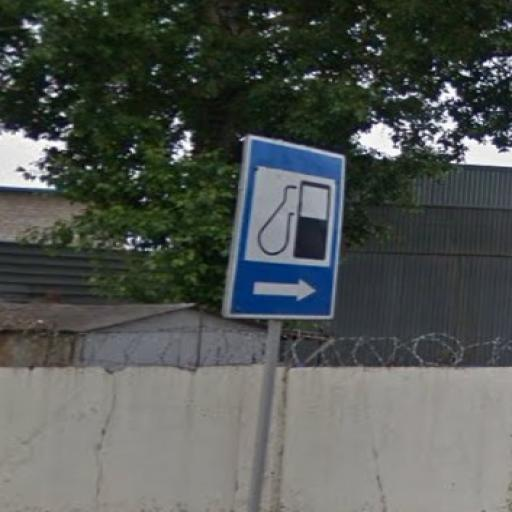traffic_sign: (218, 129, 355, 328)
